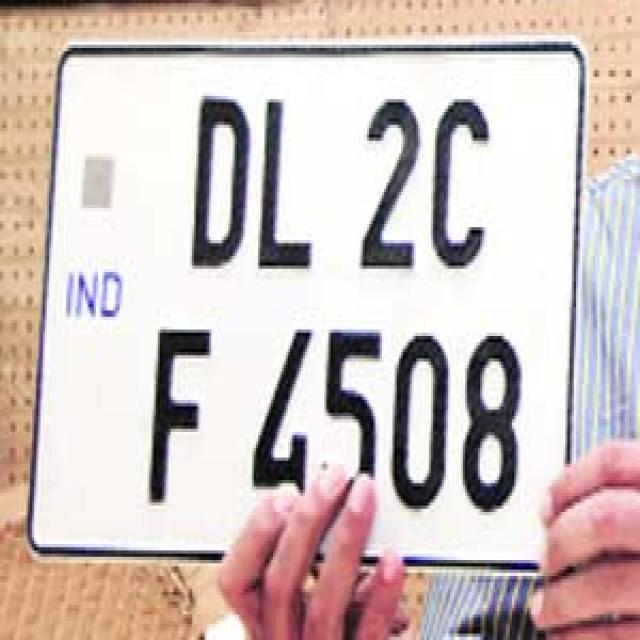License_Plate: (54, 49, 582, 568)
